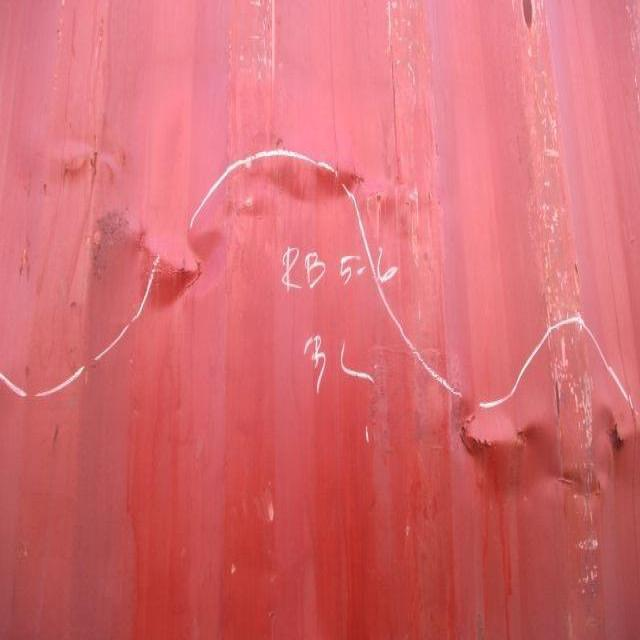dent: (11, 136, 639, 538)
